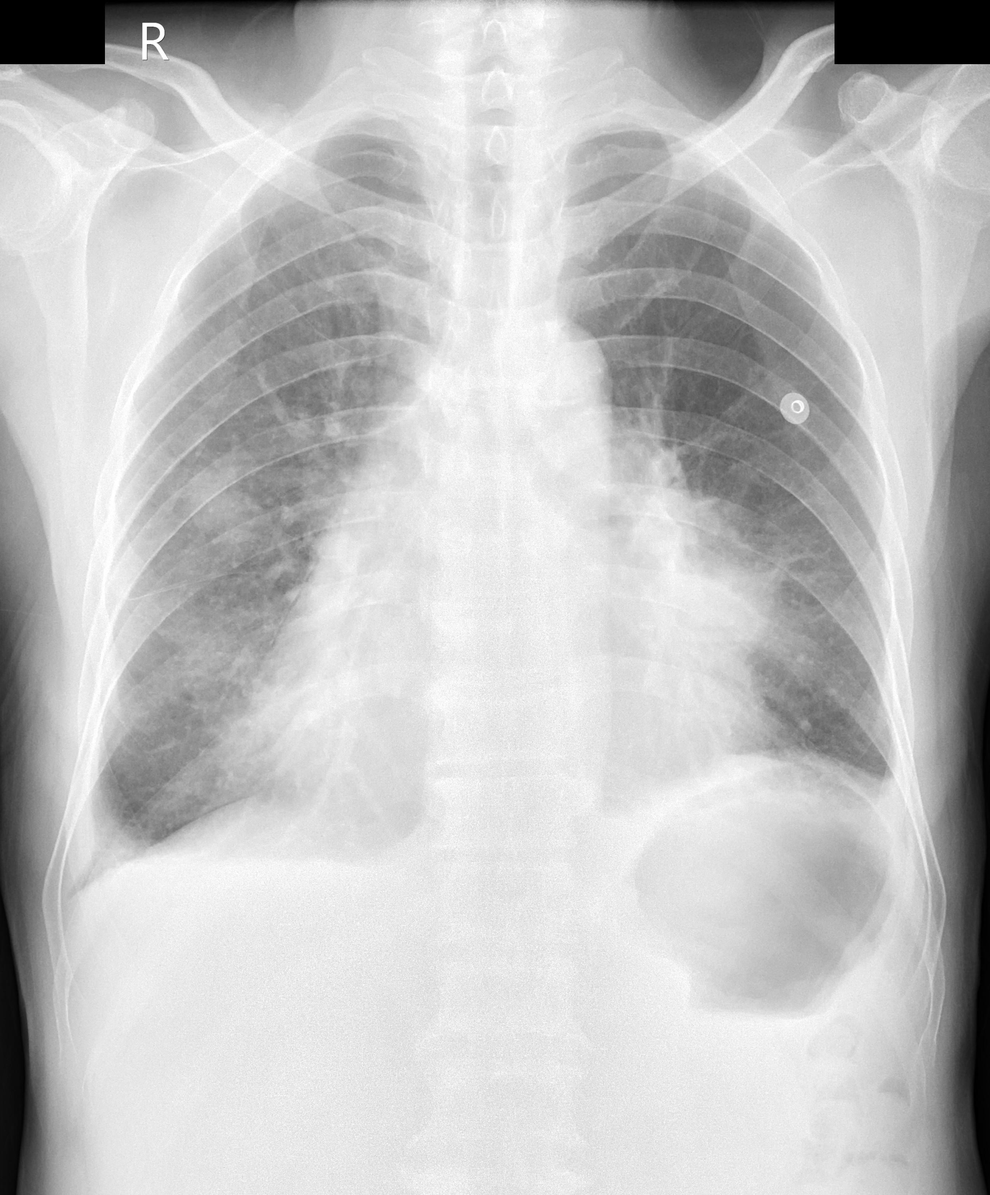Aortic enlargement: (487, 309, 613, 431)
Cardiomegaly: (272, 708, 822, 900)
Pleural thickening: (53, 764, 158, 901), (875, 731, 923, 846)
